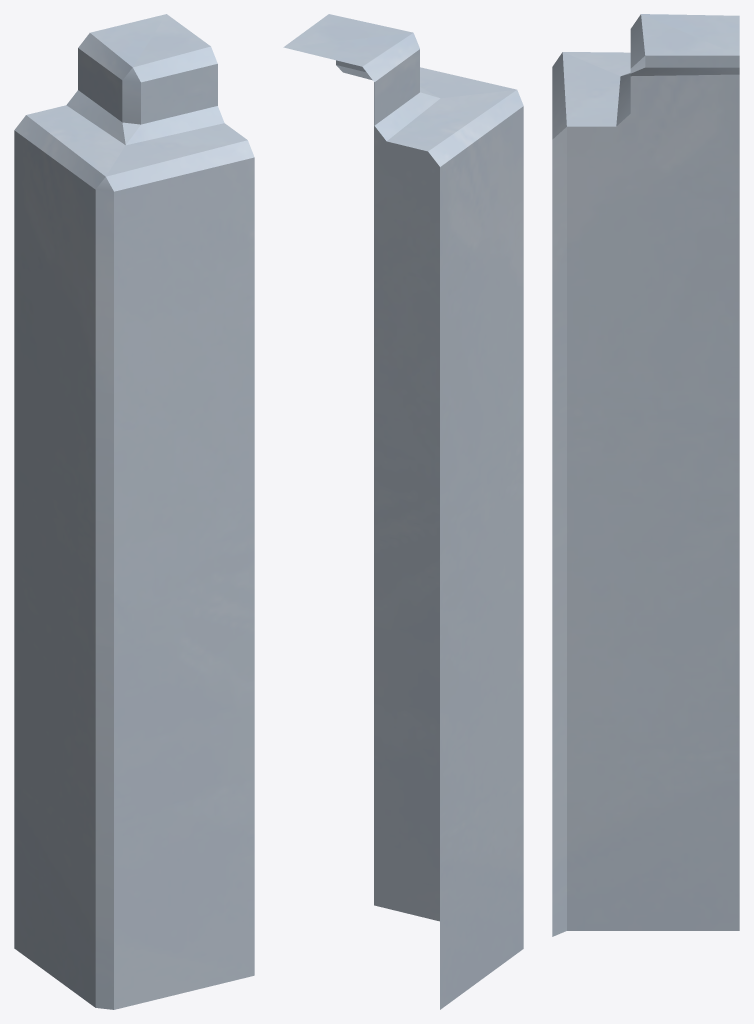
File: Corner bottom.fbx
3 views of the same model, side by side, from view 1: azimuth 30°, elevation 25°; view 2: azimuth 150°, elevation 25°; view 3: azimuth 270°, elevation 25° (orthographic). The views are drawn at different scales.
Parts seen in each view (by area): view 1: Corner bottom; view 2: Corner bottom; view 3: Corner bottom.
Boxes of the visible parts, bbox=[...] form: Corner bottom: bbox=[14, 14, 254, 1009]; Corner bottom: bbox=[283, 14, 523, 1009]; Corner bottom: bbox=[552, 14, 739, 936].
Size of the model in its own units: 6.47 by 36.41 by 6.47.
